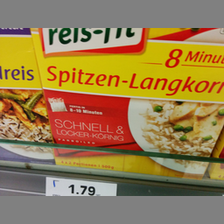rice: (30, 28, 224, 181)
